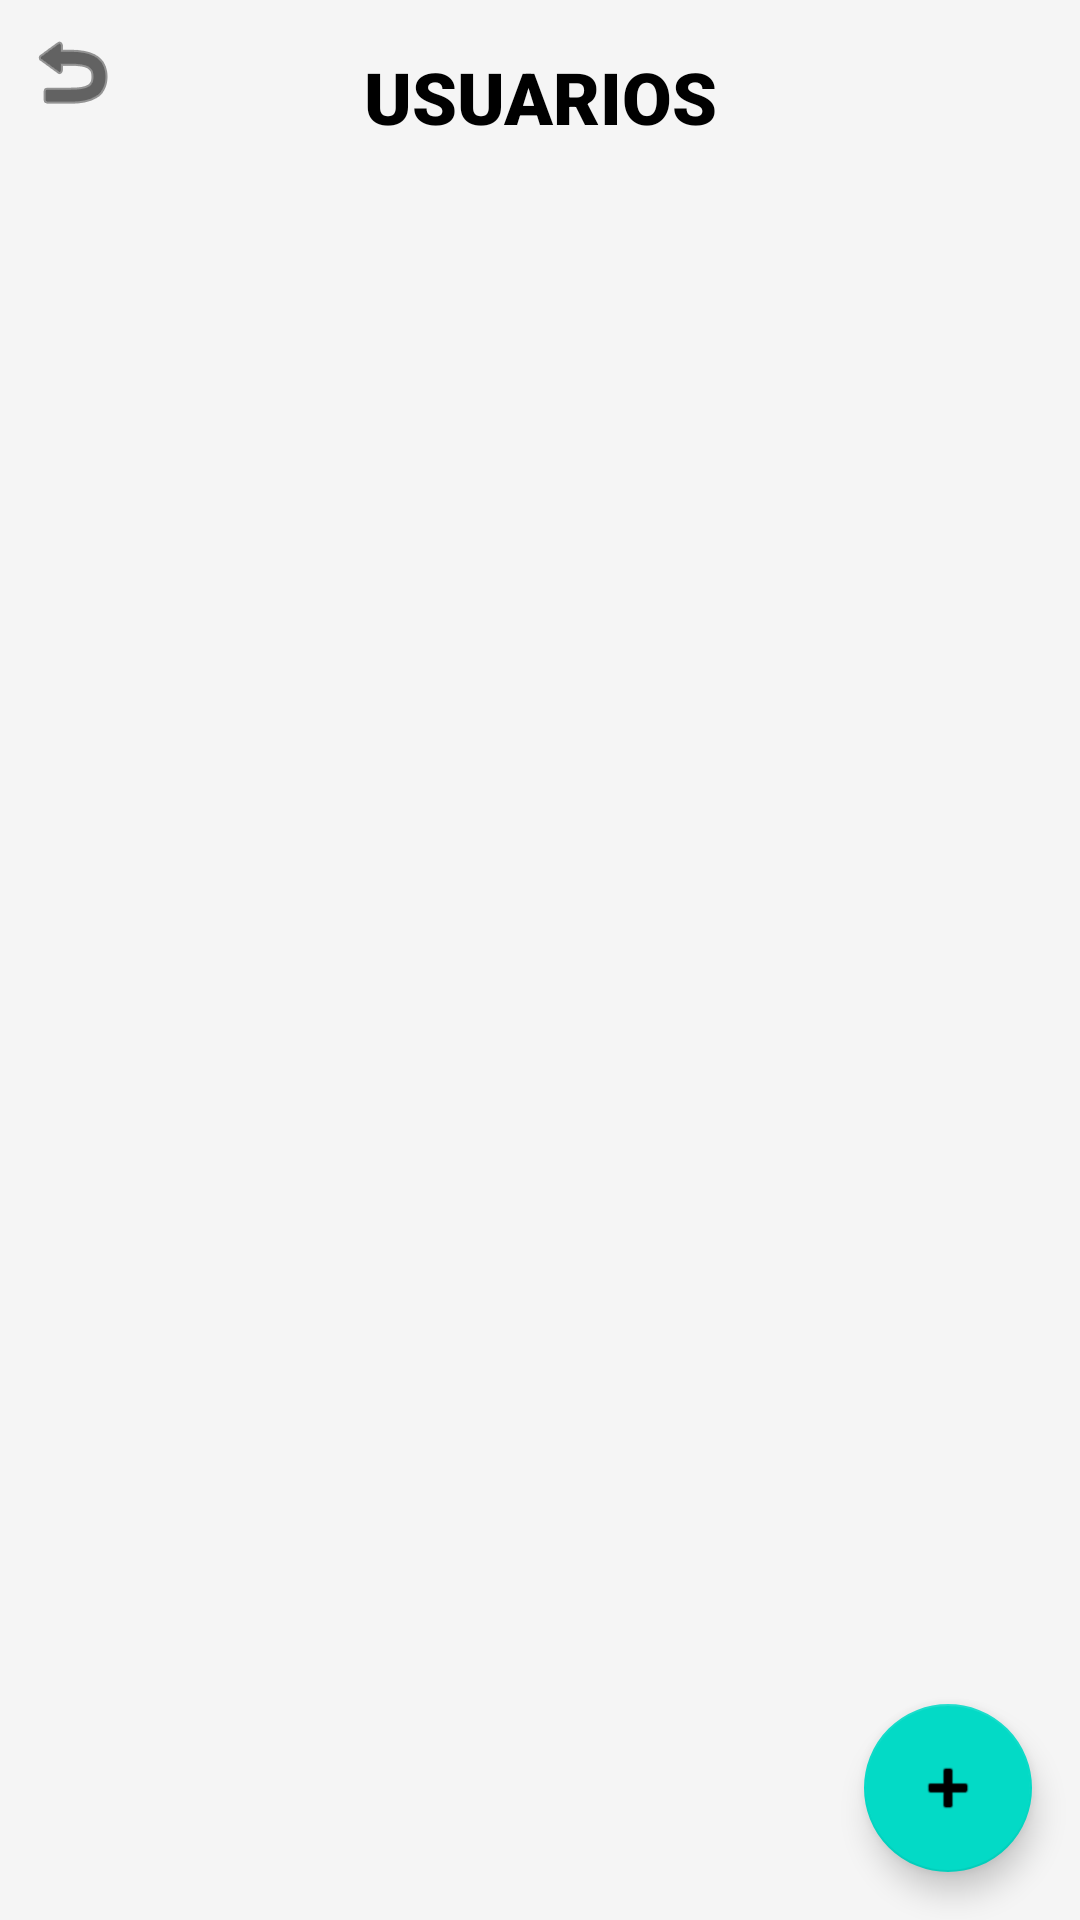

Named icons in this screenshot (1080px×1920px) and their centers, (x,y):
add: (948,1788)
revert: (73,72)
